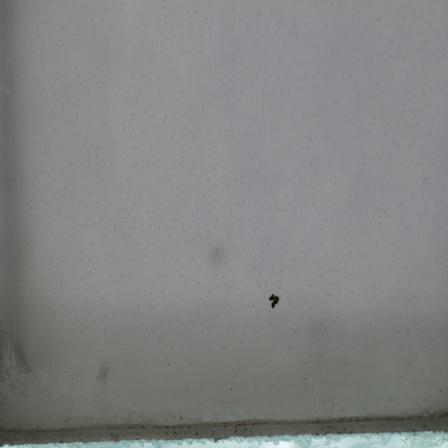Jentik-Nyamuk: (264, 289, 283, 311)
